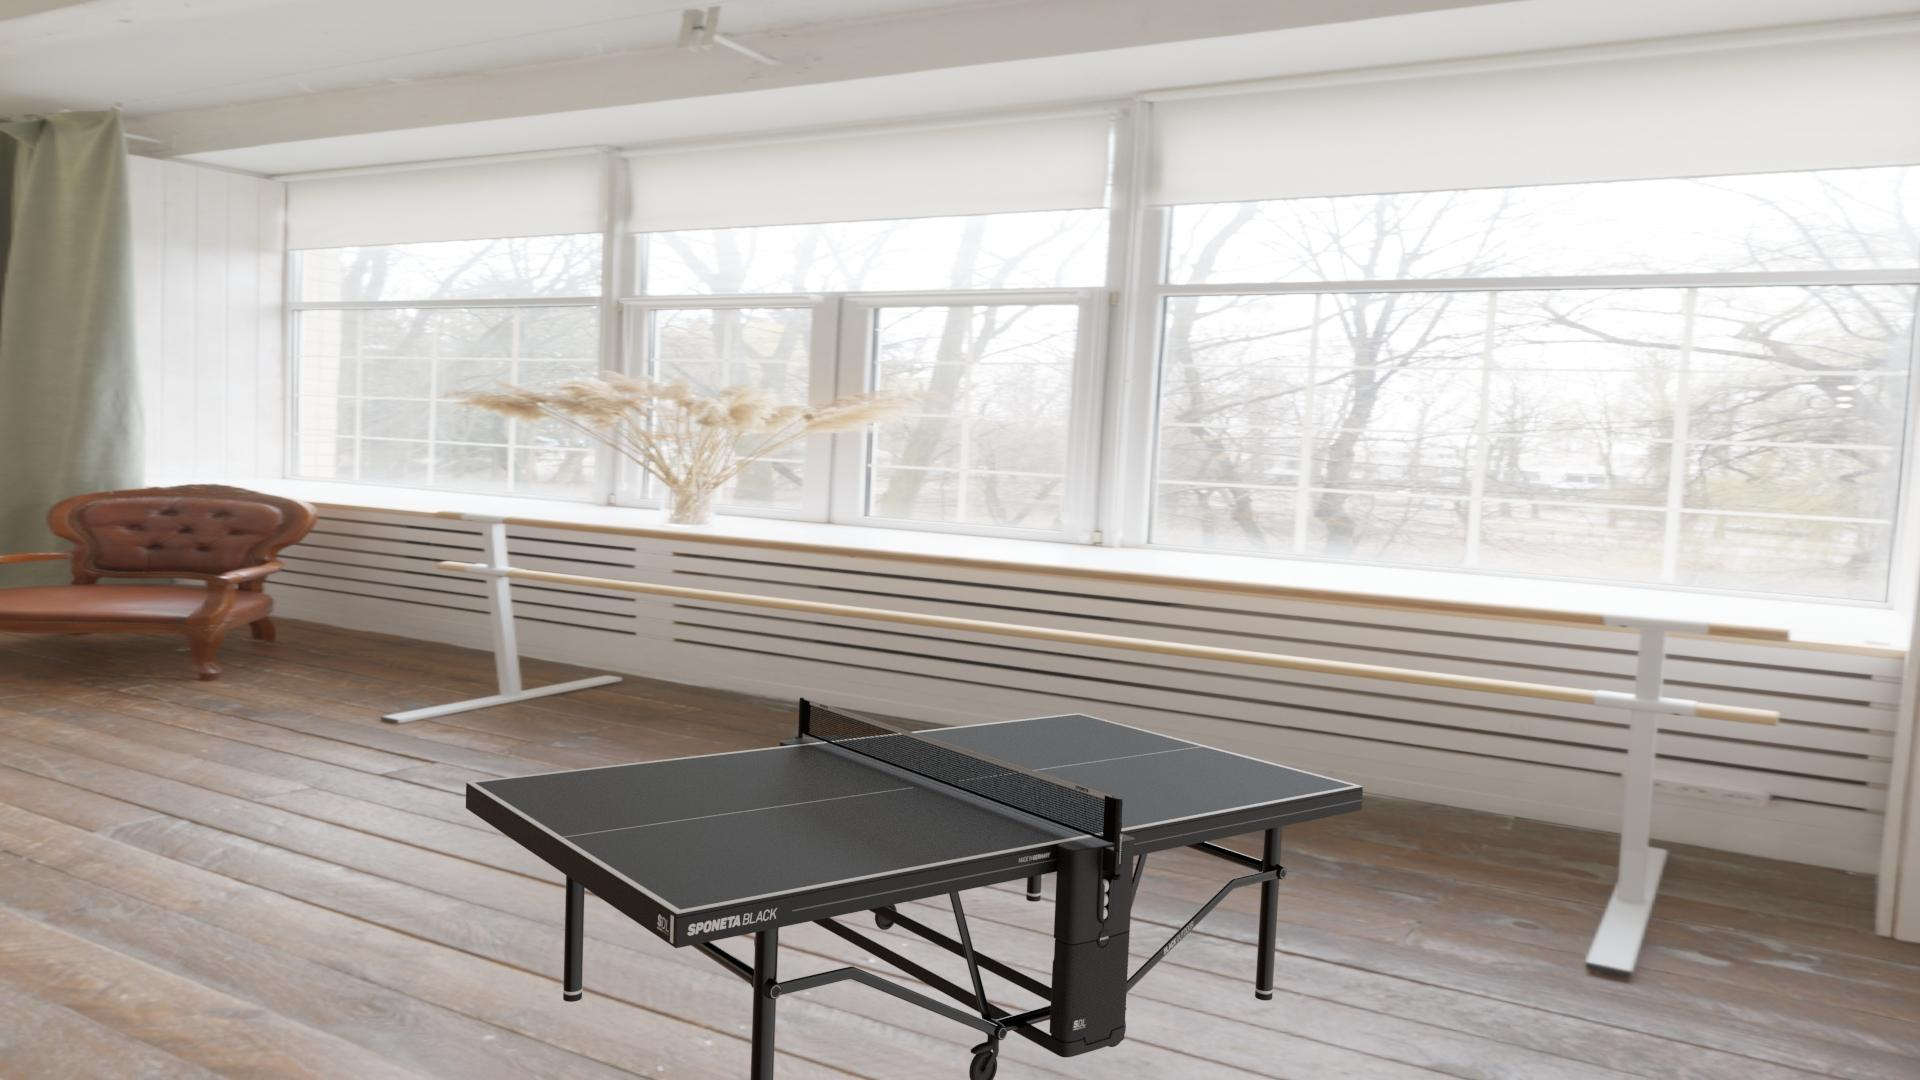table: (475, 715, 1356, 910)
